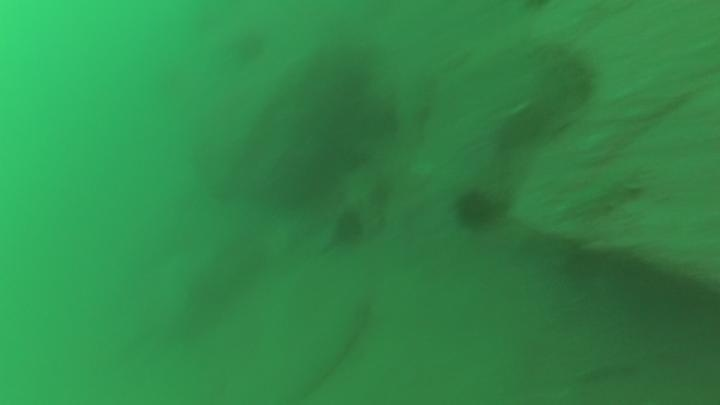echinus: (528, 41, 600, 118), (451, 186, 500, 233), (330, 206, 368, 250), (229, 27, 270, 66)
